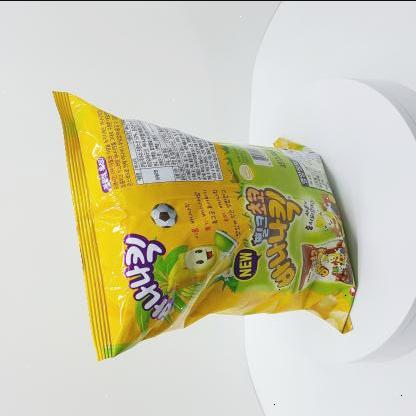Others: (49, 78, 367, 366)
